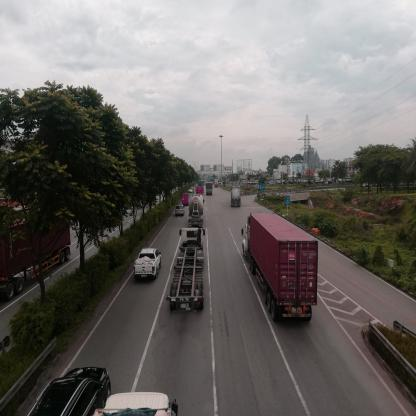car: (38, 369, 108, 416), (136, 248, 160, 280), (176, 206, 186, 216)
container: (243, 212, 319, 322), (171, 229, 206, 310)
truck: (190, 196, 204, 227), (232, 187, 242, 208), (182, 194, 189, 206), (207, 184, 213, 195)
